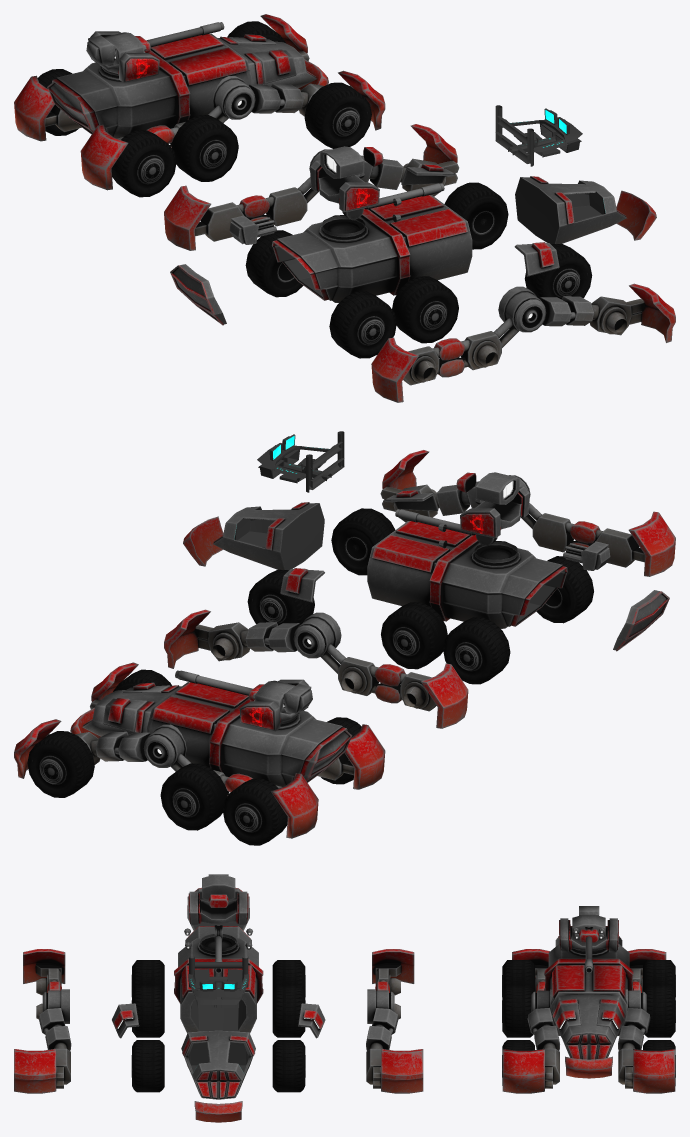
File: SM_AIV_Paint_Low.fbx
3 renders of one model, top to bottom at view 1: azimuth 30°, elevation 25°; view 2: azimuth 150°, elevation 25°; view 3: azimuth 270°, elevation 25°, orthographic. The views are drawn at different scales.
Parts seen in each view (by area): view 1: Body_Hull, Body_Hull.001, LowPolyWheels, LowPolyWheels.001, Cannon, Cannon.001; view 2: Body_Hull, Body_Hull.001, LowPolyWheels, LowPolyWheels.001, Cannon, Cannon.001; view 3: Body_Hull, Body_Hull.001, LowPolyWheels, LowPolyWheels.001, Cannon, Cannon.001.
Part boxes in pixels (x1,y1,x2,y2): Body_Hull: (164,105,675,402); Body_Hull.001: (14,14,385,190); LowPolyWheels: (245,182,592,358); LowPolyWheels.001: (37,21,371,197); Cannon: (319,183,444,242); Cannon.001: (99,22,224,81); Body_Hull: (164,431,675,728); Body_Hull.001: (14,662,385,838); LowPolyWheels: (247,508,593,684); LowPolyWheels.001: (27,669,361,845); Cannon: (395,509,520,568); Cannon.001: (175,670,300,729); Body_Hull: (14,874,423,1122); Body_Hull.001: (502,906,675,1093); LowPolyWheels: (131,960,305,1092); LowPolyWheels.001: (502,960,675,1085); Cannon: (198,925,239,973); Cannon.001: (569,927,608,973).
Bounding box in the file's own units: 1180 × 1735 × 401.
Materials: 1 (1 with a texture image).
